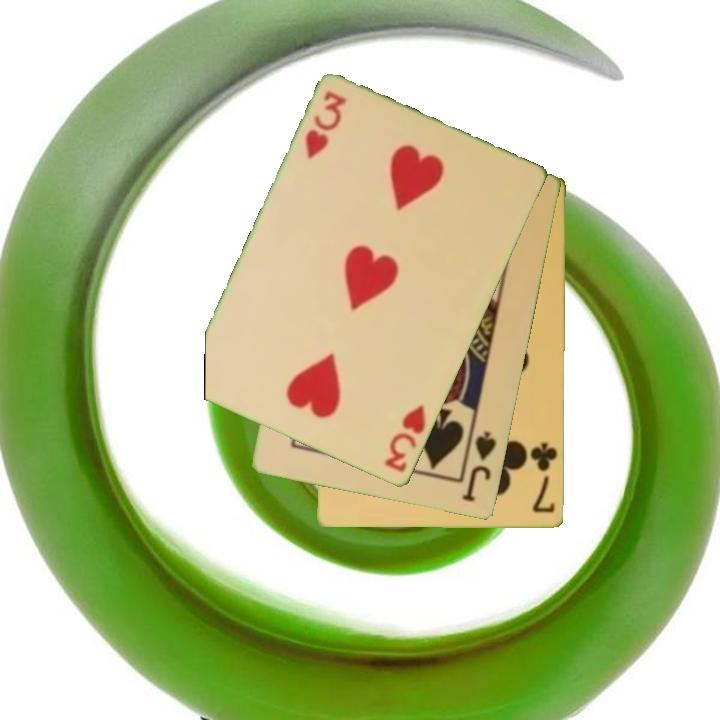3h: (380, 401, 429, 476), (301, 88, 350, 163)
7c: (527, 439, 560, 516)
Js: (459, 428, 500, 505)
